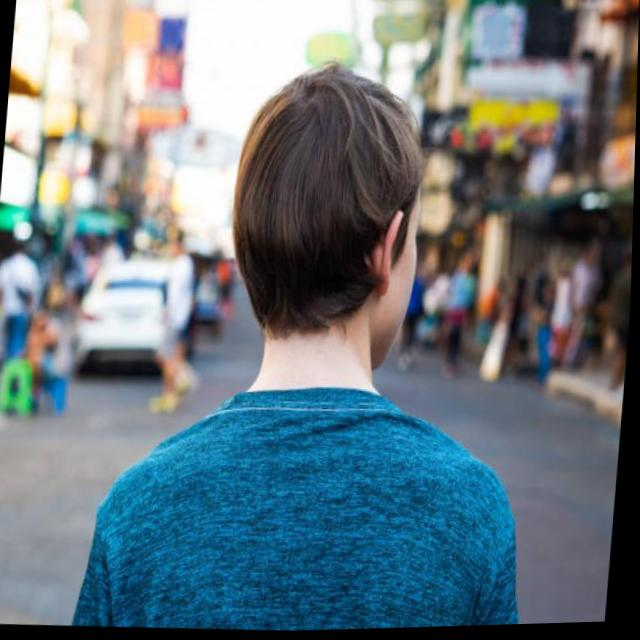no helmet: (220, 55, 438, 381)
